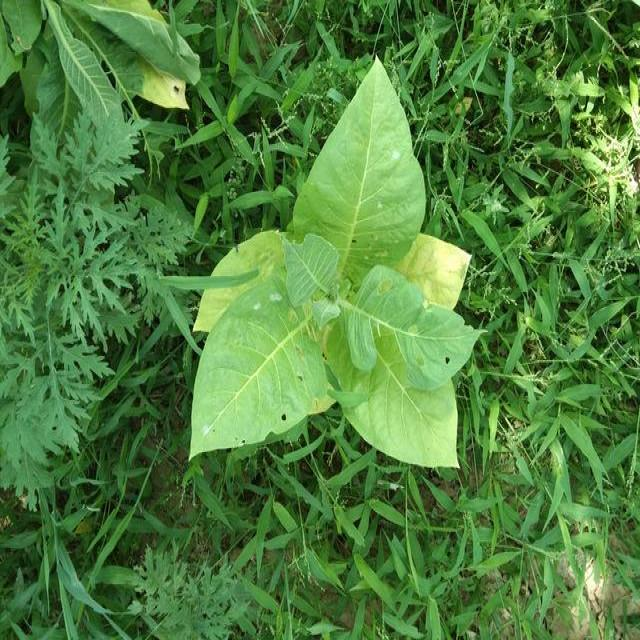crop: (190, 52, 480, 472)
